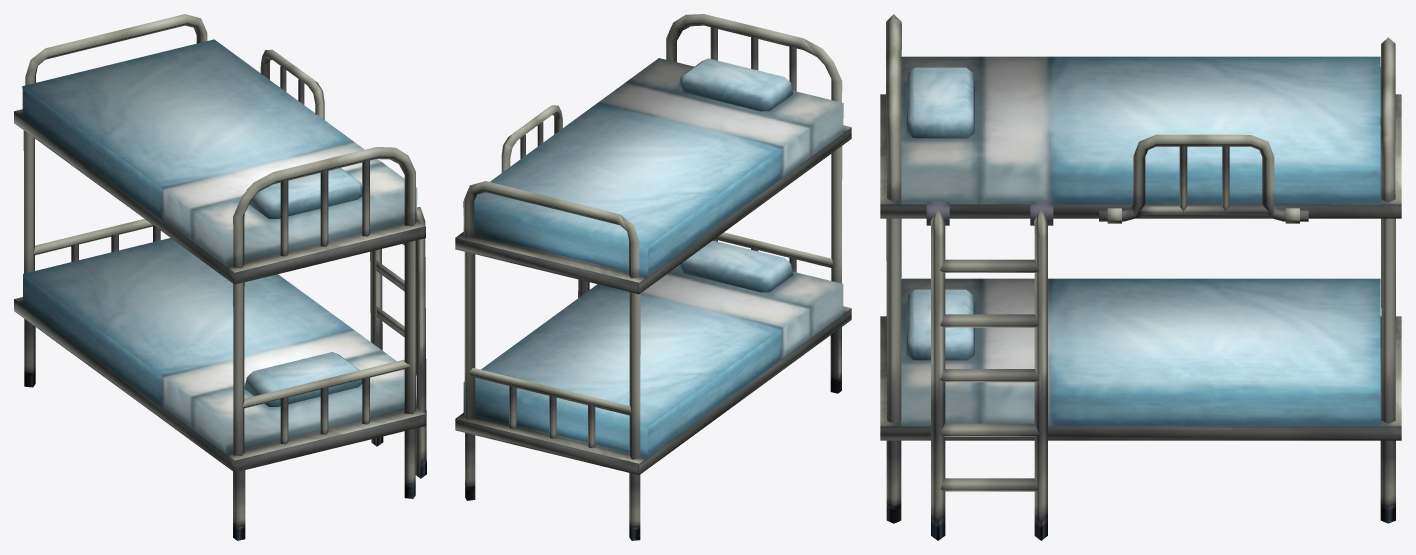
File: a_SCbed02.glb
3 views of the same model, side by side, from view 1: azimuth 30°, elevation 25°; view 2: azimuth 150°, elevation 25°; view 3: azimuth 270°, elevation 25° (orthographic). The views are drawn at different scales.
Visible parts, largest first — view 1: a_SCbed02; view 2: a_SCbed02; view 3: a_SCbed02.
Part boxes in pixels (bbox=[...]): a_SCbed02: bbox=[14, 14, 426, 540]; a_SCbed02: bbox=[455, 14, 851, 540]; a_SCbed02: bbox=[880, 14, 1401, 540].
Size of the model in its own units: 1.14 by 1.79 by 2.
1 material, 1 textured.
